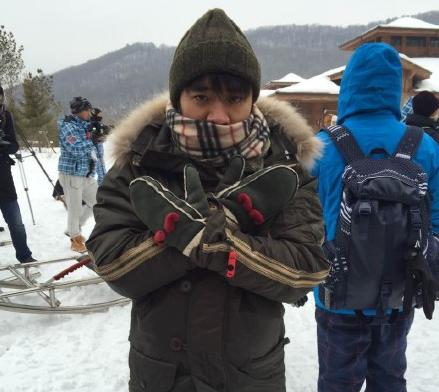NONE: (82, 105, 94, 122)
WRONG: (181, 80, 254, 160)
